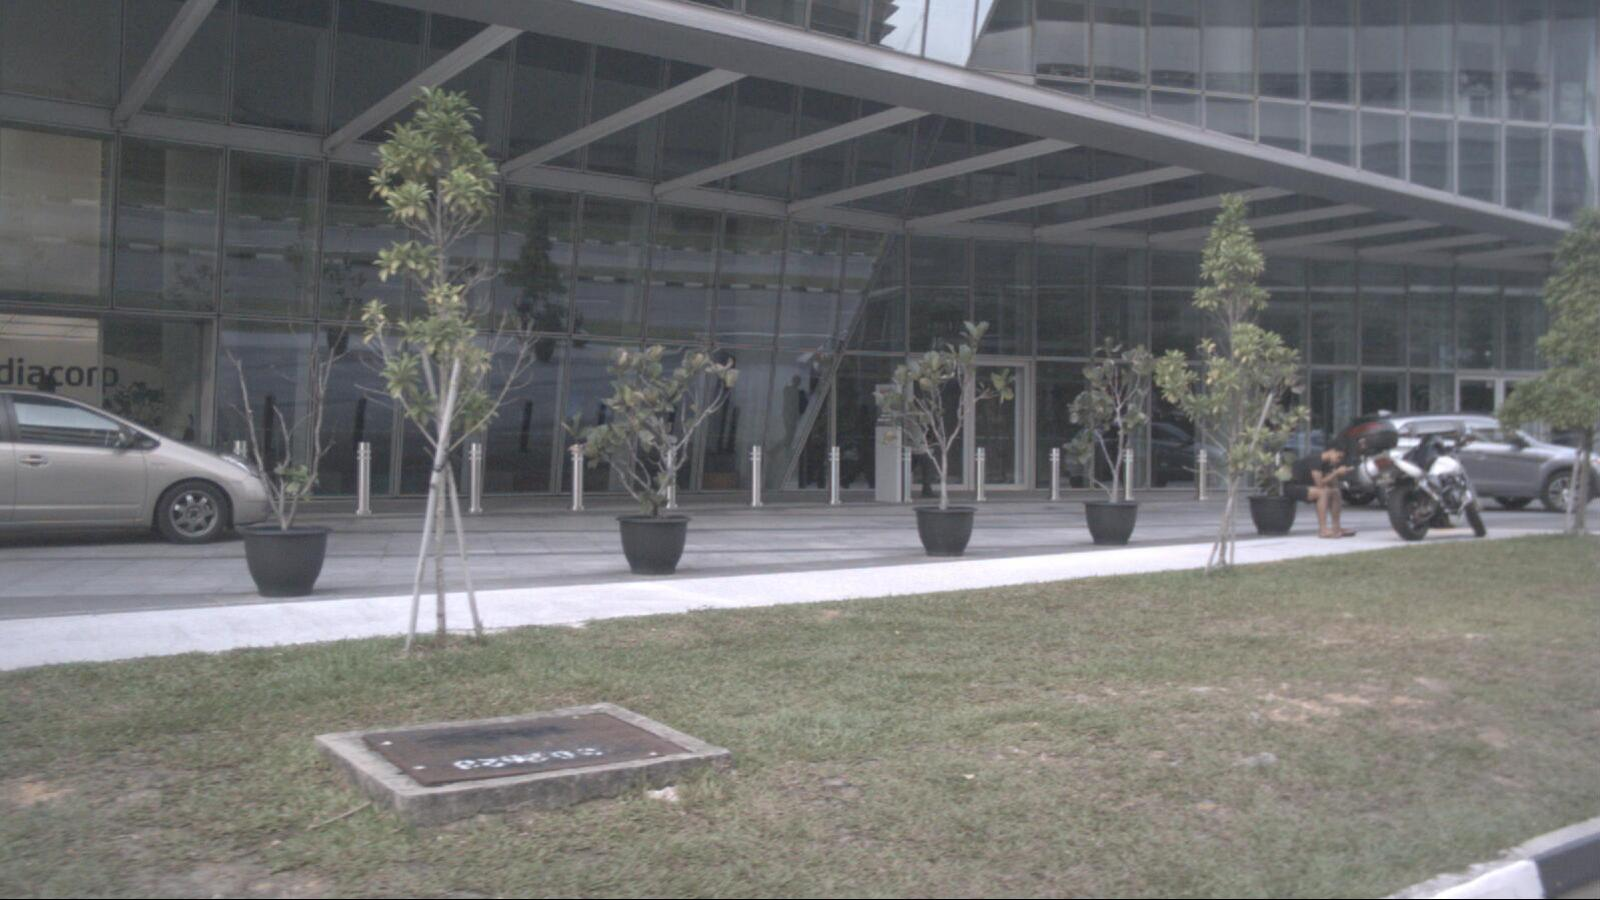human.pedestrian.adult-pedestrian.moving: (904, 397, 940, 498)
human.pedestrian.adult-pedestrian.sitting_lying_down: (1282, 441, 1357, 540)
